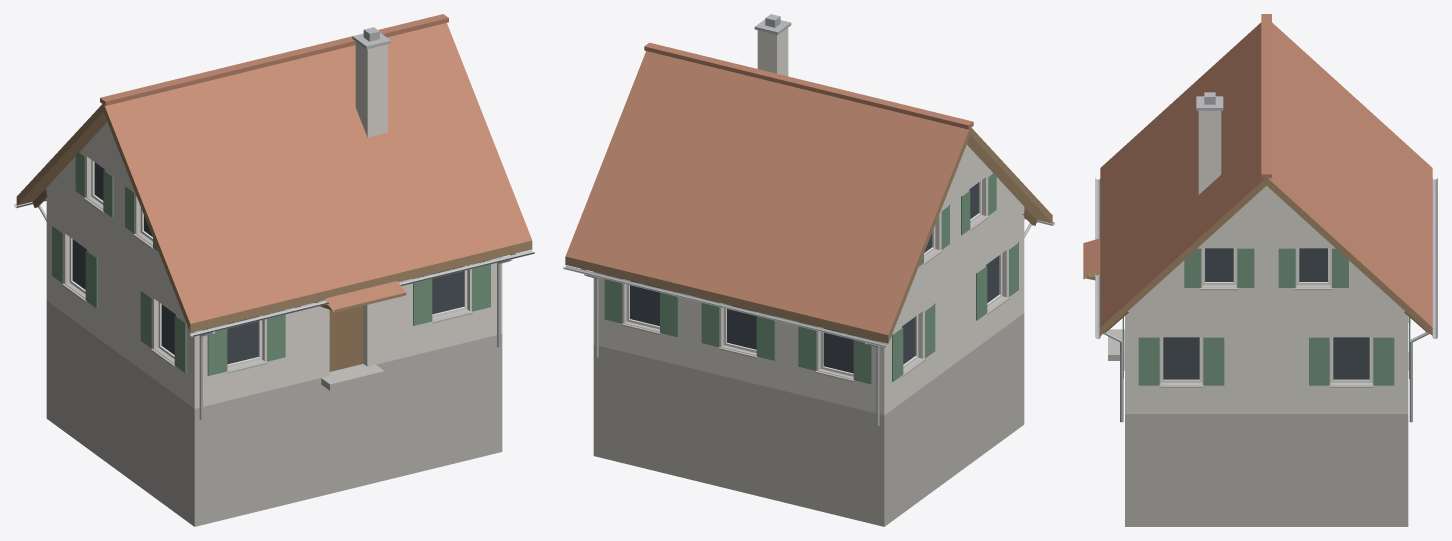
Rendered from house_gable_1_s.glb.
3 renders of one model, left to right at view 1: azimuth 30°, elevation 25°; view 2: azimuth 150°, elevation 25°; view 3: azimuth 270°, elevation 25°, orthographic. The views are drawn at different scales.
Visible parts, largest first — view 1: house_gable_1_s; view 2: house_gable_1_s; view 3: house_gable_1_s.
Boxes of the visible parts, x1=… form: house_gable_1_s: x1=14, y1=14, x2=534, y2=526; house_gable_1_s: x1=563, y1=14, x2=1054, y2=526; house_gable_1_s: x1=1083, y1=14, x2=1437, y2=526.
Size of the model in its own units: 10.04 by 11.45 by 9.38.
